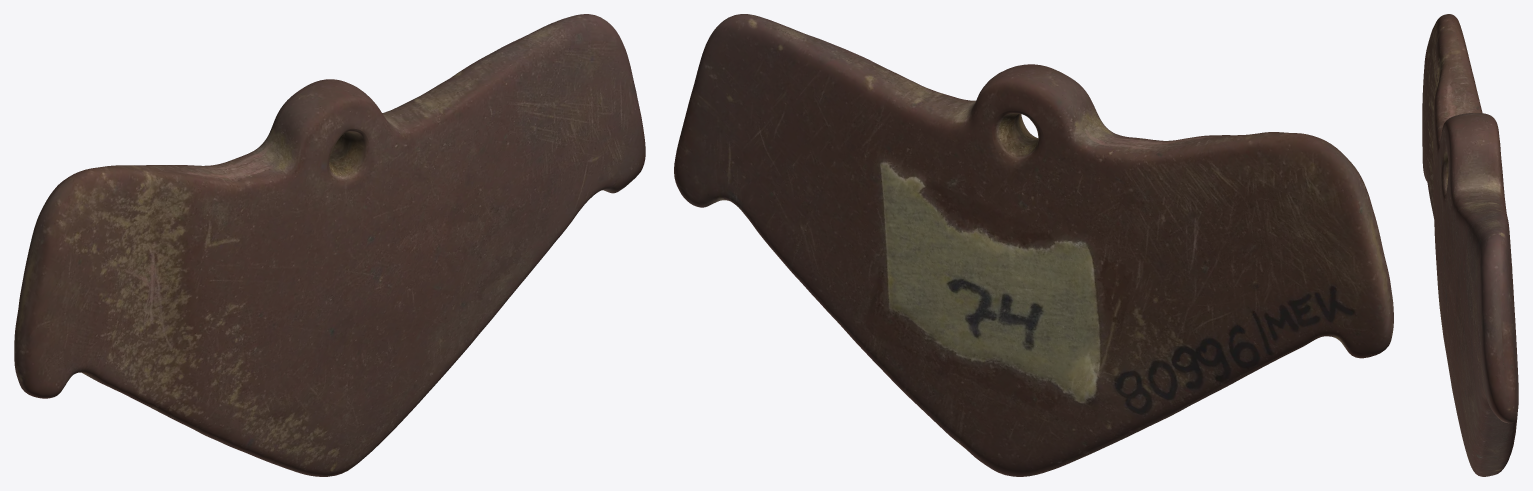
Rendered from tairona_culture_zoomorphic_pendant__bat.lod1.glb.
3 renders of one model, left to right at view 1: azimuth 30°, elevation 25°; view 2: azimuth 150°, elevation 25°; view 3: azimuth 270°, elevation 25°, orthographic. The views are drawn at different scales.
Parts seen in each view (by area): view 1: Object_4, Object_2, Object_3; view 2: Object_2, Object_4, Object_3; view 3: Object_4, Object_2, Object_3.
Boxes of the visible parts, x1,y1,x2,y2 form: Object_4: (17, 14, 645, 476); Object_2: (14, 18, 565, 394); Object_3: (327, 128, 369, 189); Object_2: (674, 19, 1391, 476); Object_4: (674, 14, 1393, 441); Object_3: (992, 111, 1045, 169); Object_4: (1422, 14, 1514, 476); Object_2: (1450, 14, 1518, 475); Object_3: (1441, 148, 1448, 202).
Bounding box in the file's own units: 2.6 × 1.48 × 0.3694.
Materials: 1 (1 with a texture image).
